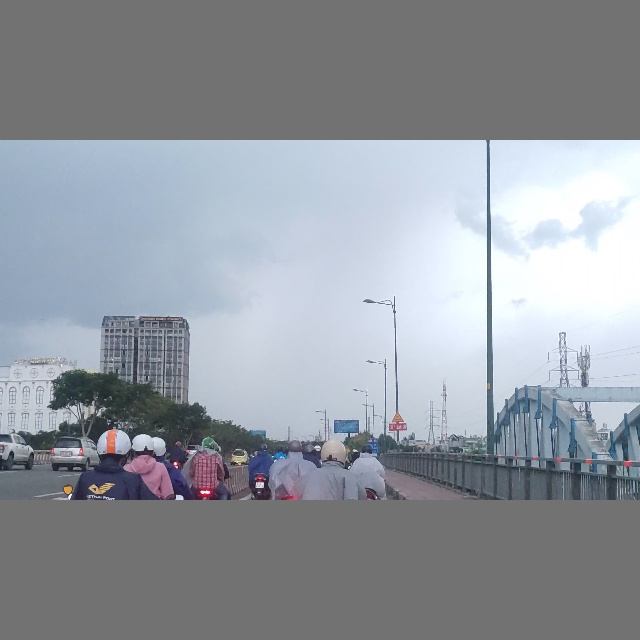W.245a: (390, 410, 405, 423)
